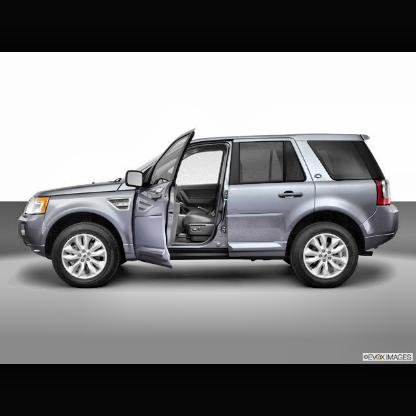Land Rover LR2 SUV 2012: (20, 129, 400, 290)
